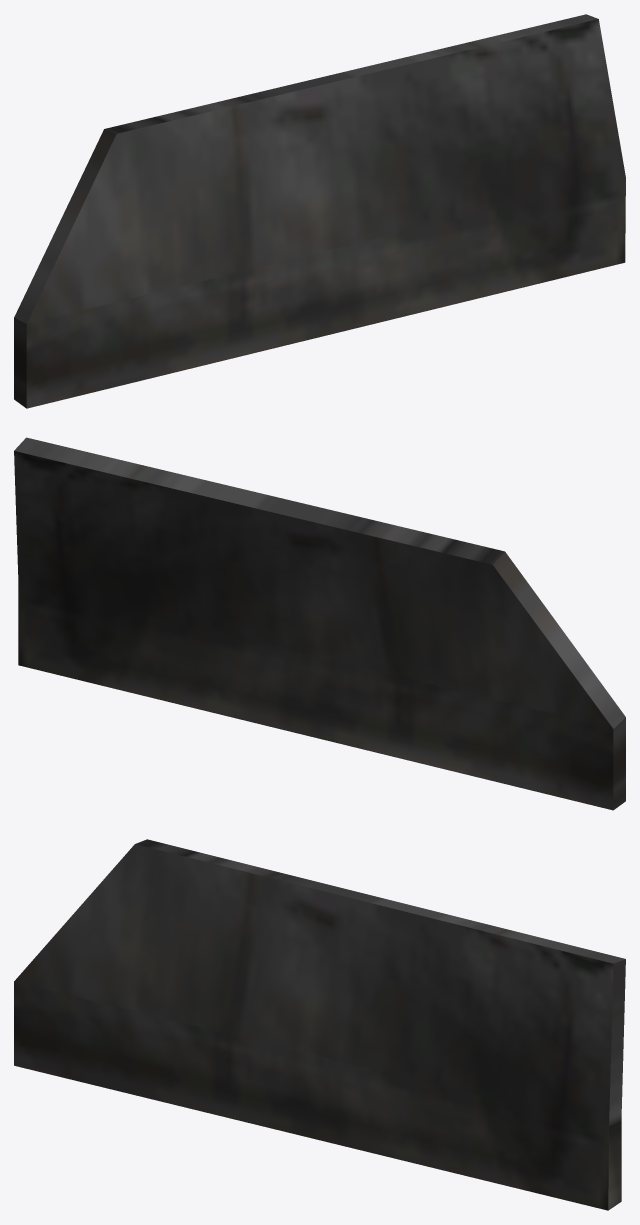
File: Shared - Ground Vehicles - CV Generic x 11 - CVGeneric_x11.glb
3 views of the same model, one above another, from view 1: azimuth 30°, elevation 25°; view 2: azimuth 150°, elevation 25°; view 3: azimuth 330°, elevation 25° (orthographic).
Parts seen in each view (by area): view 1: CVGENERIC_X11; view 2: CVGENERIC_X11; view 3: CVGENERIC_X11.
Part boxes in pixels (x1,y1,x2,y2): CVGENERIC_X11: (14, 14, 625, 408); CVGENERIC_X11: (14, 437, 625, 810); CVGENERIC_X11: (14, 839, 625, 1210).
Size of the model in its own units: 9.79 by 3.7 by 0.8022.
1 material, 1 textured.
